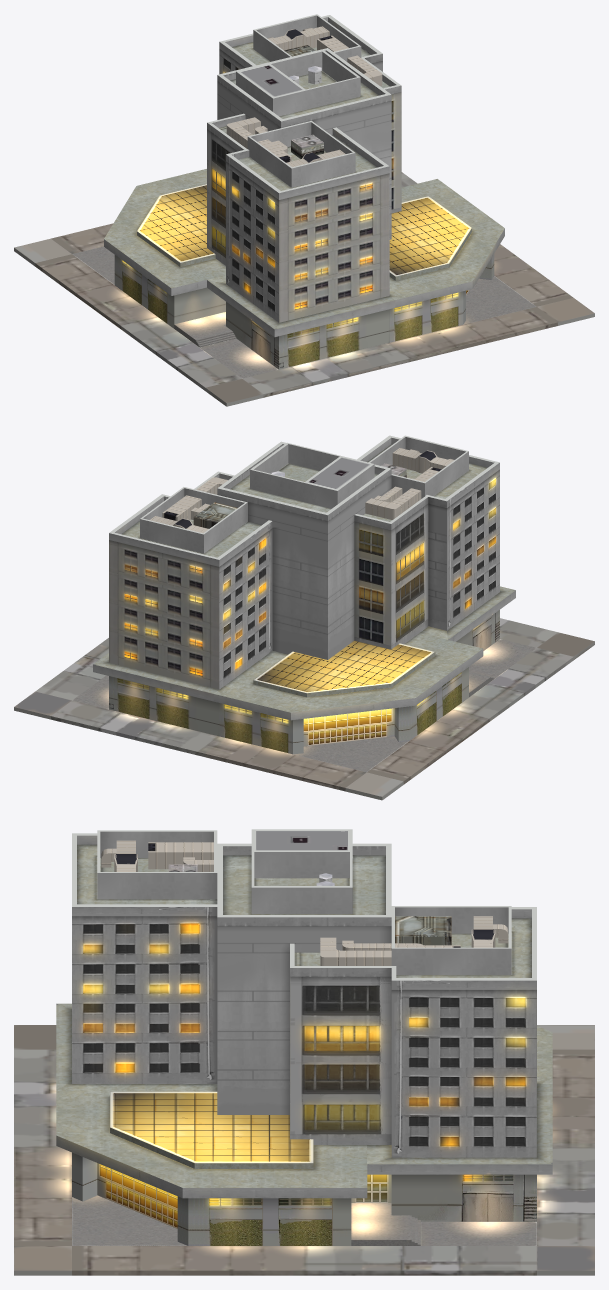
Rendered from Building1_2x2.fbx.
The picture shows the model from 3 angles, top to bottom: view 1: azimuth 30°, elevation 25°; view 2: azimuth 150°, elevation 25°; view 3: azimuth 270°, elevation 25°; orthographic projection. The views are drawn at different scales.
Visible parts, largest first — view 1: group6; view 2: group6; view 3: group6.
Part boxes in pixels (x1,y1,x2,y2): group6: (14,14,594,406); group6: (14,435,594,800); group6: (14,829,594,1275).
Size of the model in its own units: 20 by 11 by 20.
